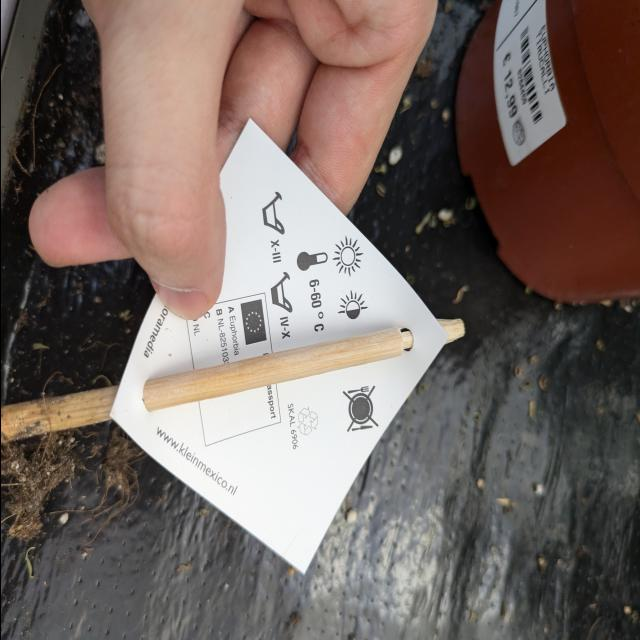halb sonnig schattig: (334, 292, 367, 326)
mittel giesen: (267, 268, 294, 314)
sonnig: (326, 240, 366, 278)
wenig giesen: (256, 192, 284, 240)
